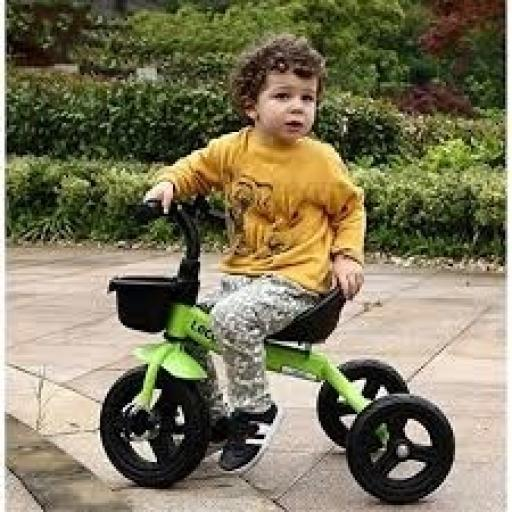cycling: (139, 32, 371, 475)
